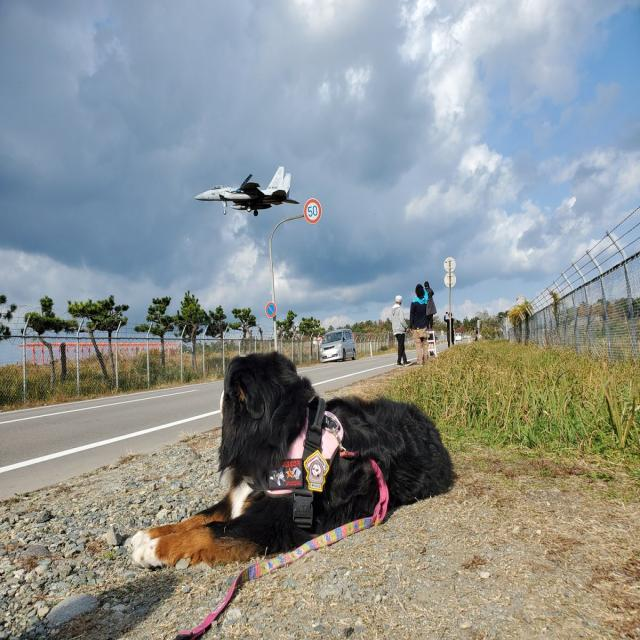MIL_Plane: (193, 166, 300, 217)
